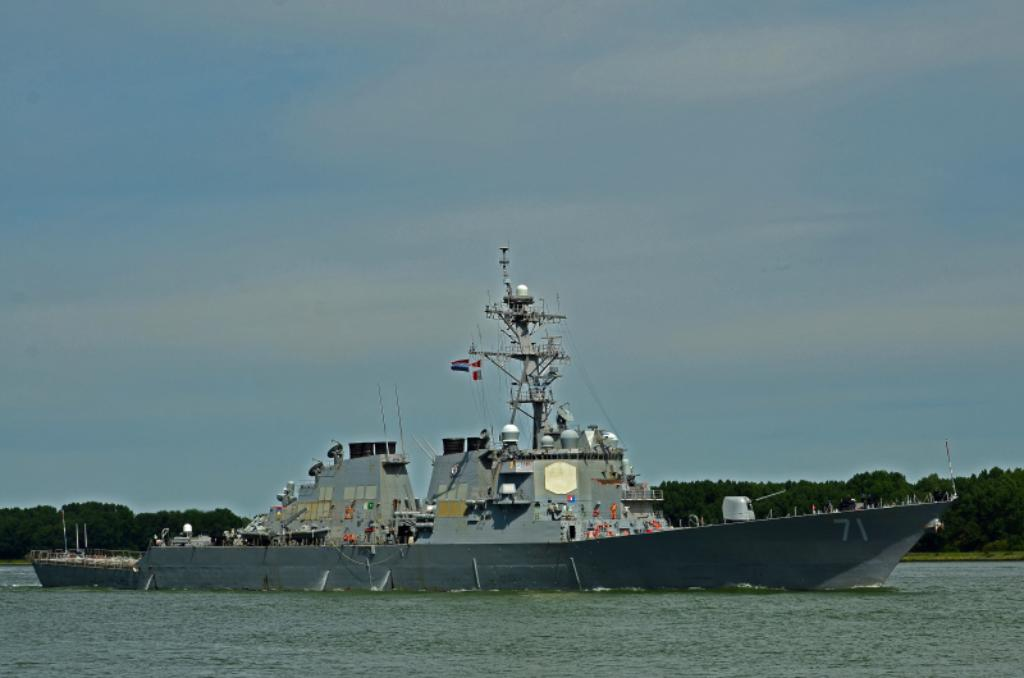Warship: (24, 236, 966, 602)
